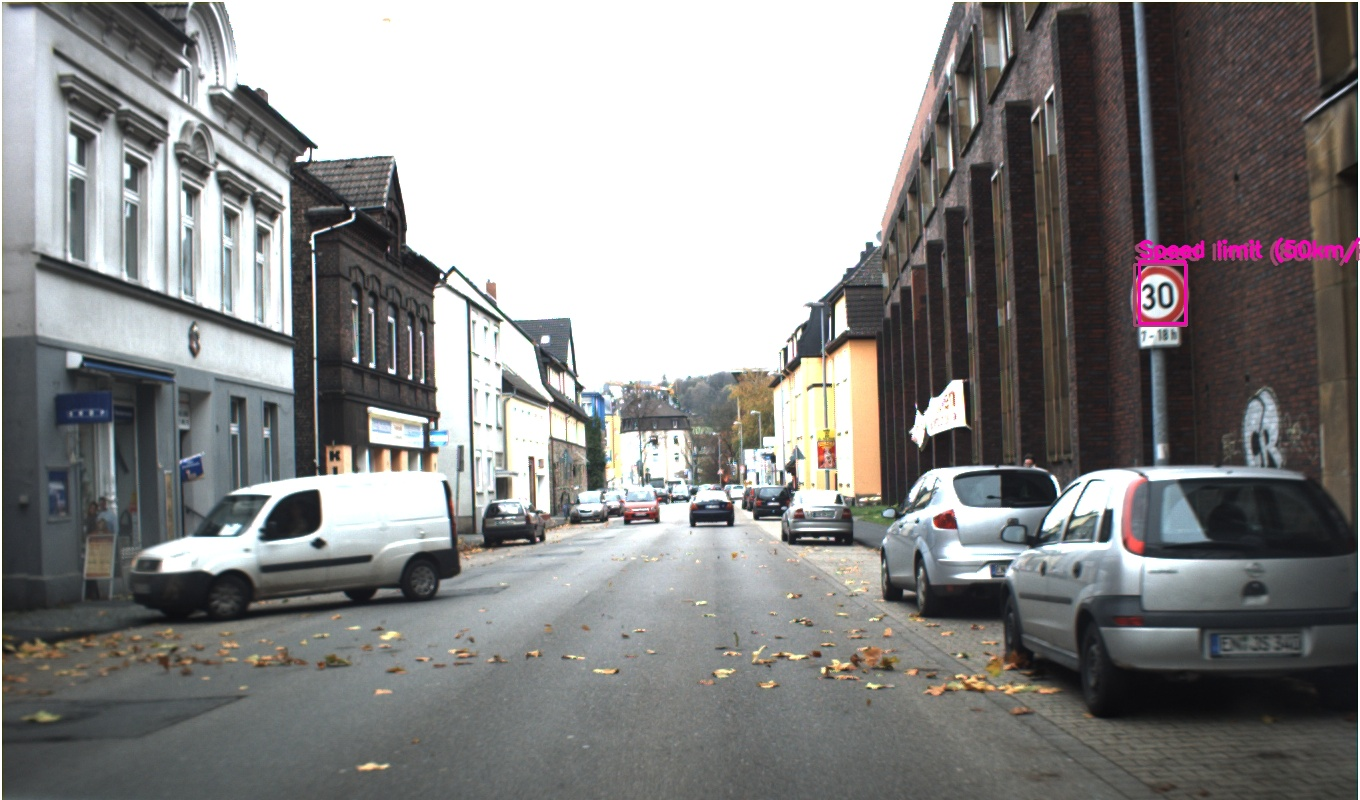Speed limit (30km/h): (1051, 275, 1115, 338)
